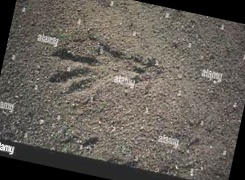fox: (75, 125, 162, 176), (104, 72, 187, 125)
